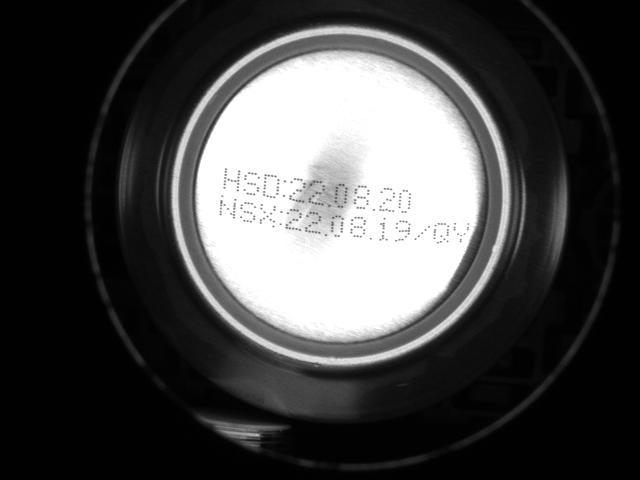.: (325, 197, 333, 208), (321, 227, 329, 238), (369, 200, 377, 211), (367, 230, 375, 241)
/: (413, 222, 432, 245)
0: (333, 181, 349, 210), (329, 213, 345, 242), (396, 185, 412, 214)
1: (376, 216, 390, 241)
2: (288, 174, 306, 204), (283, 205, 301, 235), (307, 177, 325, 207), (303, 208, 321, 238), (377, 183, 395, 213)
8: (353, 182, 370, 213), (349, 212, 366, 243)
9: (392, 217, 411, 244)
:: (280, 177, 288, 199), (276, 205, 284, 227)
D: (262, 171, 280, 200)
H: (220, 165, 242, 193)
N: (218, 194, 238, 220)
Q: (431, 218, 450, 248)
S: (242, 169, 261, 198), (238, 196, 257, 225)
X: (258, 201, 277, 229)
Y: (451, 218, 471, 248)
